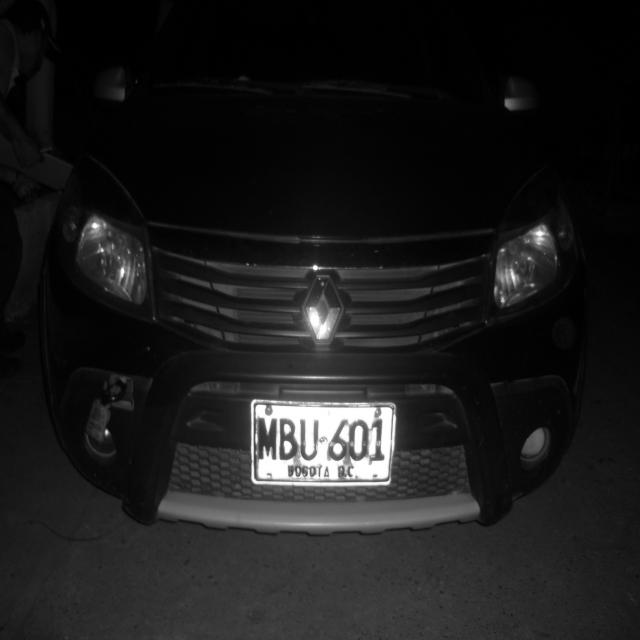plate: (250, 397, 398, 491)
